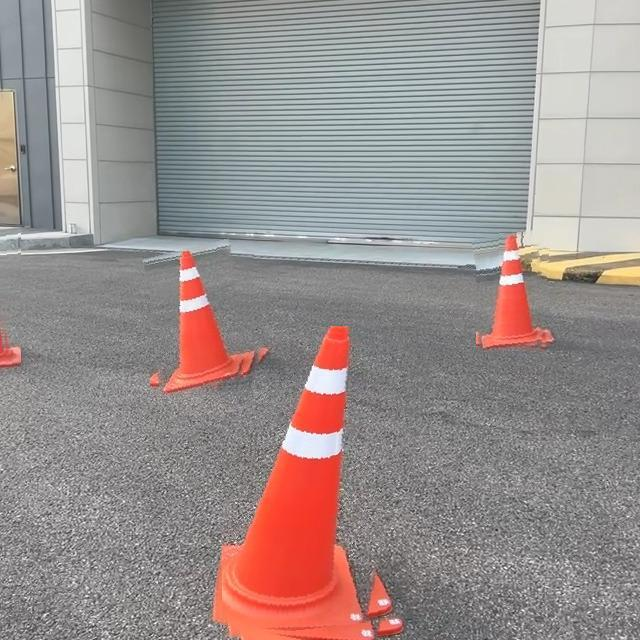fallen_object: (209, 317, 418, 640), (117, 226, 262, 399), (467, 215, 568, 380)
